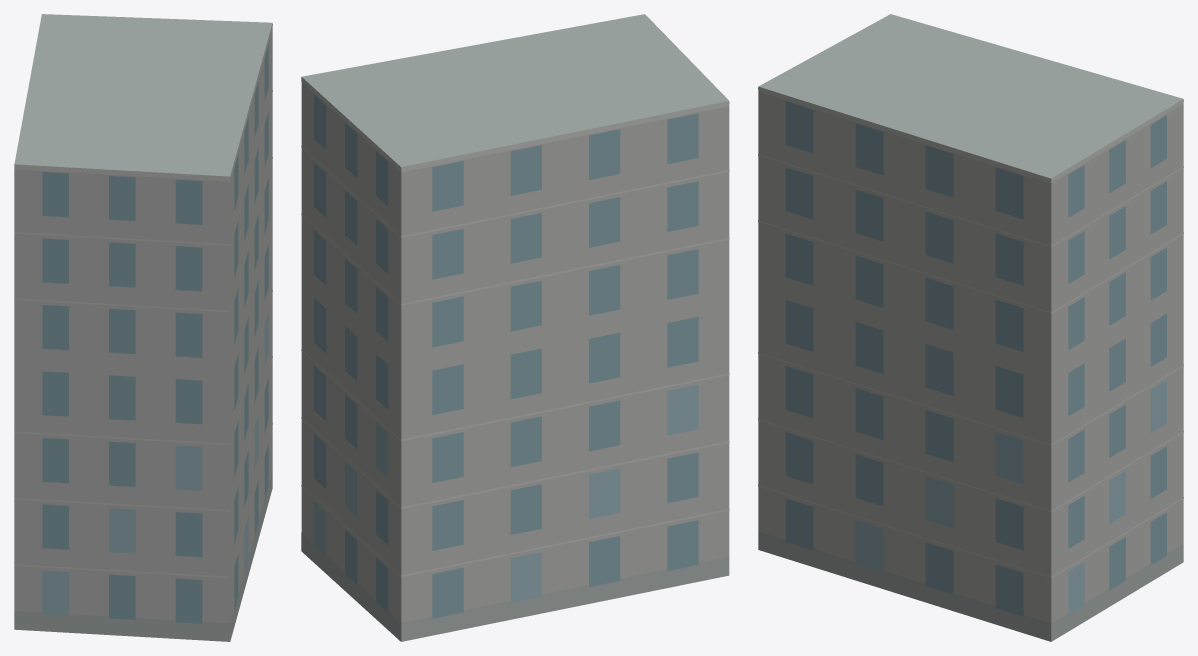
Rendered from survey-upis-32847064.glb.
The picture shows the model from 3 angles, left to right: view 1: azimuth 30°, elevation 25°; view 2: azimuth 150°, elevation 25°; view 3: azimuth 270°, elevation 25°; orthographic projection. The views are drawn at different scales.
Parts seen in each view (by area): view 1: survey-upis-32847064.tmp; view 2: survey-upis-32847064.tmp; view 3: survey-upis-32847064.tmp.
Part boxes in pixels (x1,y1,x2,y2): survey-upis-32847064.tmp: (14,14,272,641); survey-upis-32847064.tmp: (301,14,729,641); survey-upis-32847064.tmp: (758,14,1183,641).
Size of the model in its own units: 17.09 by 22.4 by 18.67.
